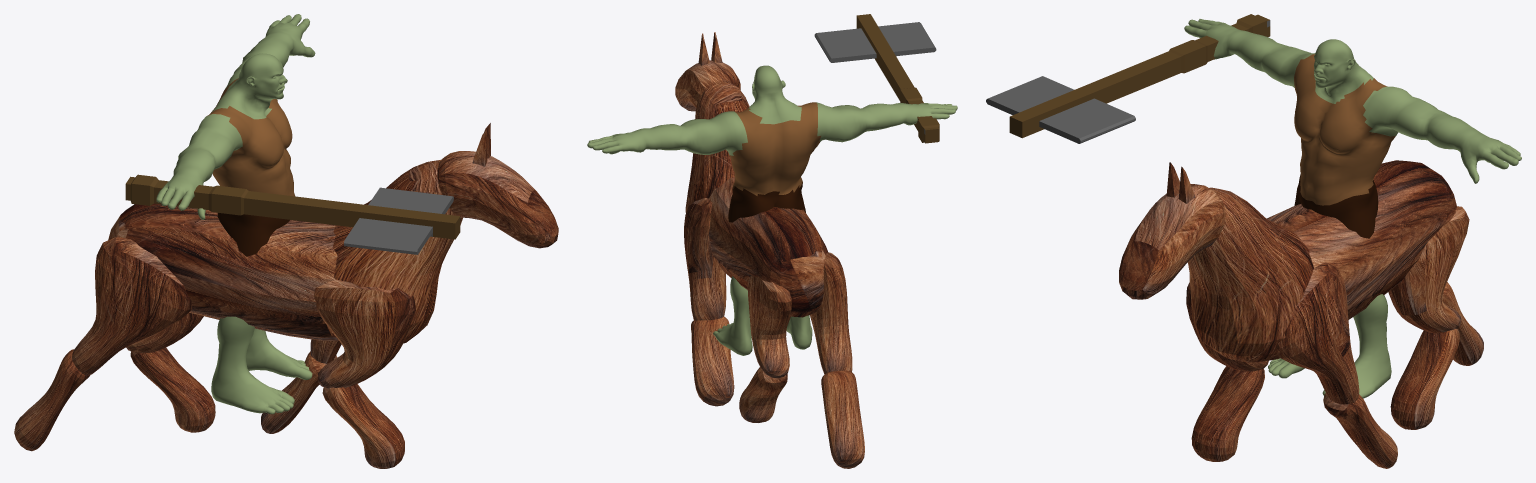
File: horseman_orc.glb
3 renders of one model, left to right at view 1: azimuth 30°, elevation 25°; view 2: azimuth 150°, elevation 25°; view 3: azimuth 270°, elevation 25°, orthographic. The views are drawn at different scales.
Visible parts, largest first — view 1: Cube.001, Brute Orc, Axe; view 2: Cube.001, Brute Orc, Axe; view 3: Cube.001, Brute Orc, Axe.
Boxes of the visible parts, <box> form: Cube.001: <box>14,123,558,468</box>; Brute Orc: <box>156,14,315,414</box>; Axe: <box>125,174,460,254</box>; Cube.001: <box>675,32,864,468</box>; Brute Orc: <box>587,65,957,355</box>; Axe: <box>814,14,939,143</box>; Cube.001: <box>1119,160,1483,468</box>; Brute Orc: <box>1184,19,1521,398</box>; Axe: <box>986,14,1270,143</box>.
Size of the model in its own units: 3.71 by 3.75 by 4.46.
Materials: 6 (1 with a texture image).
